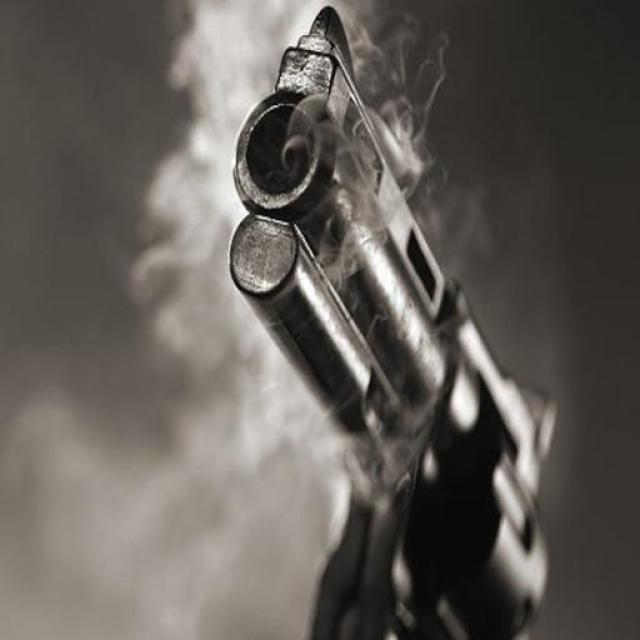pistol: (239, 1, 558, 639)
